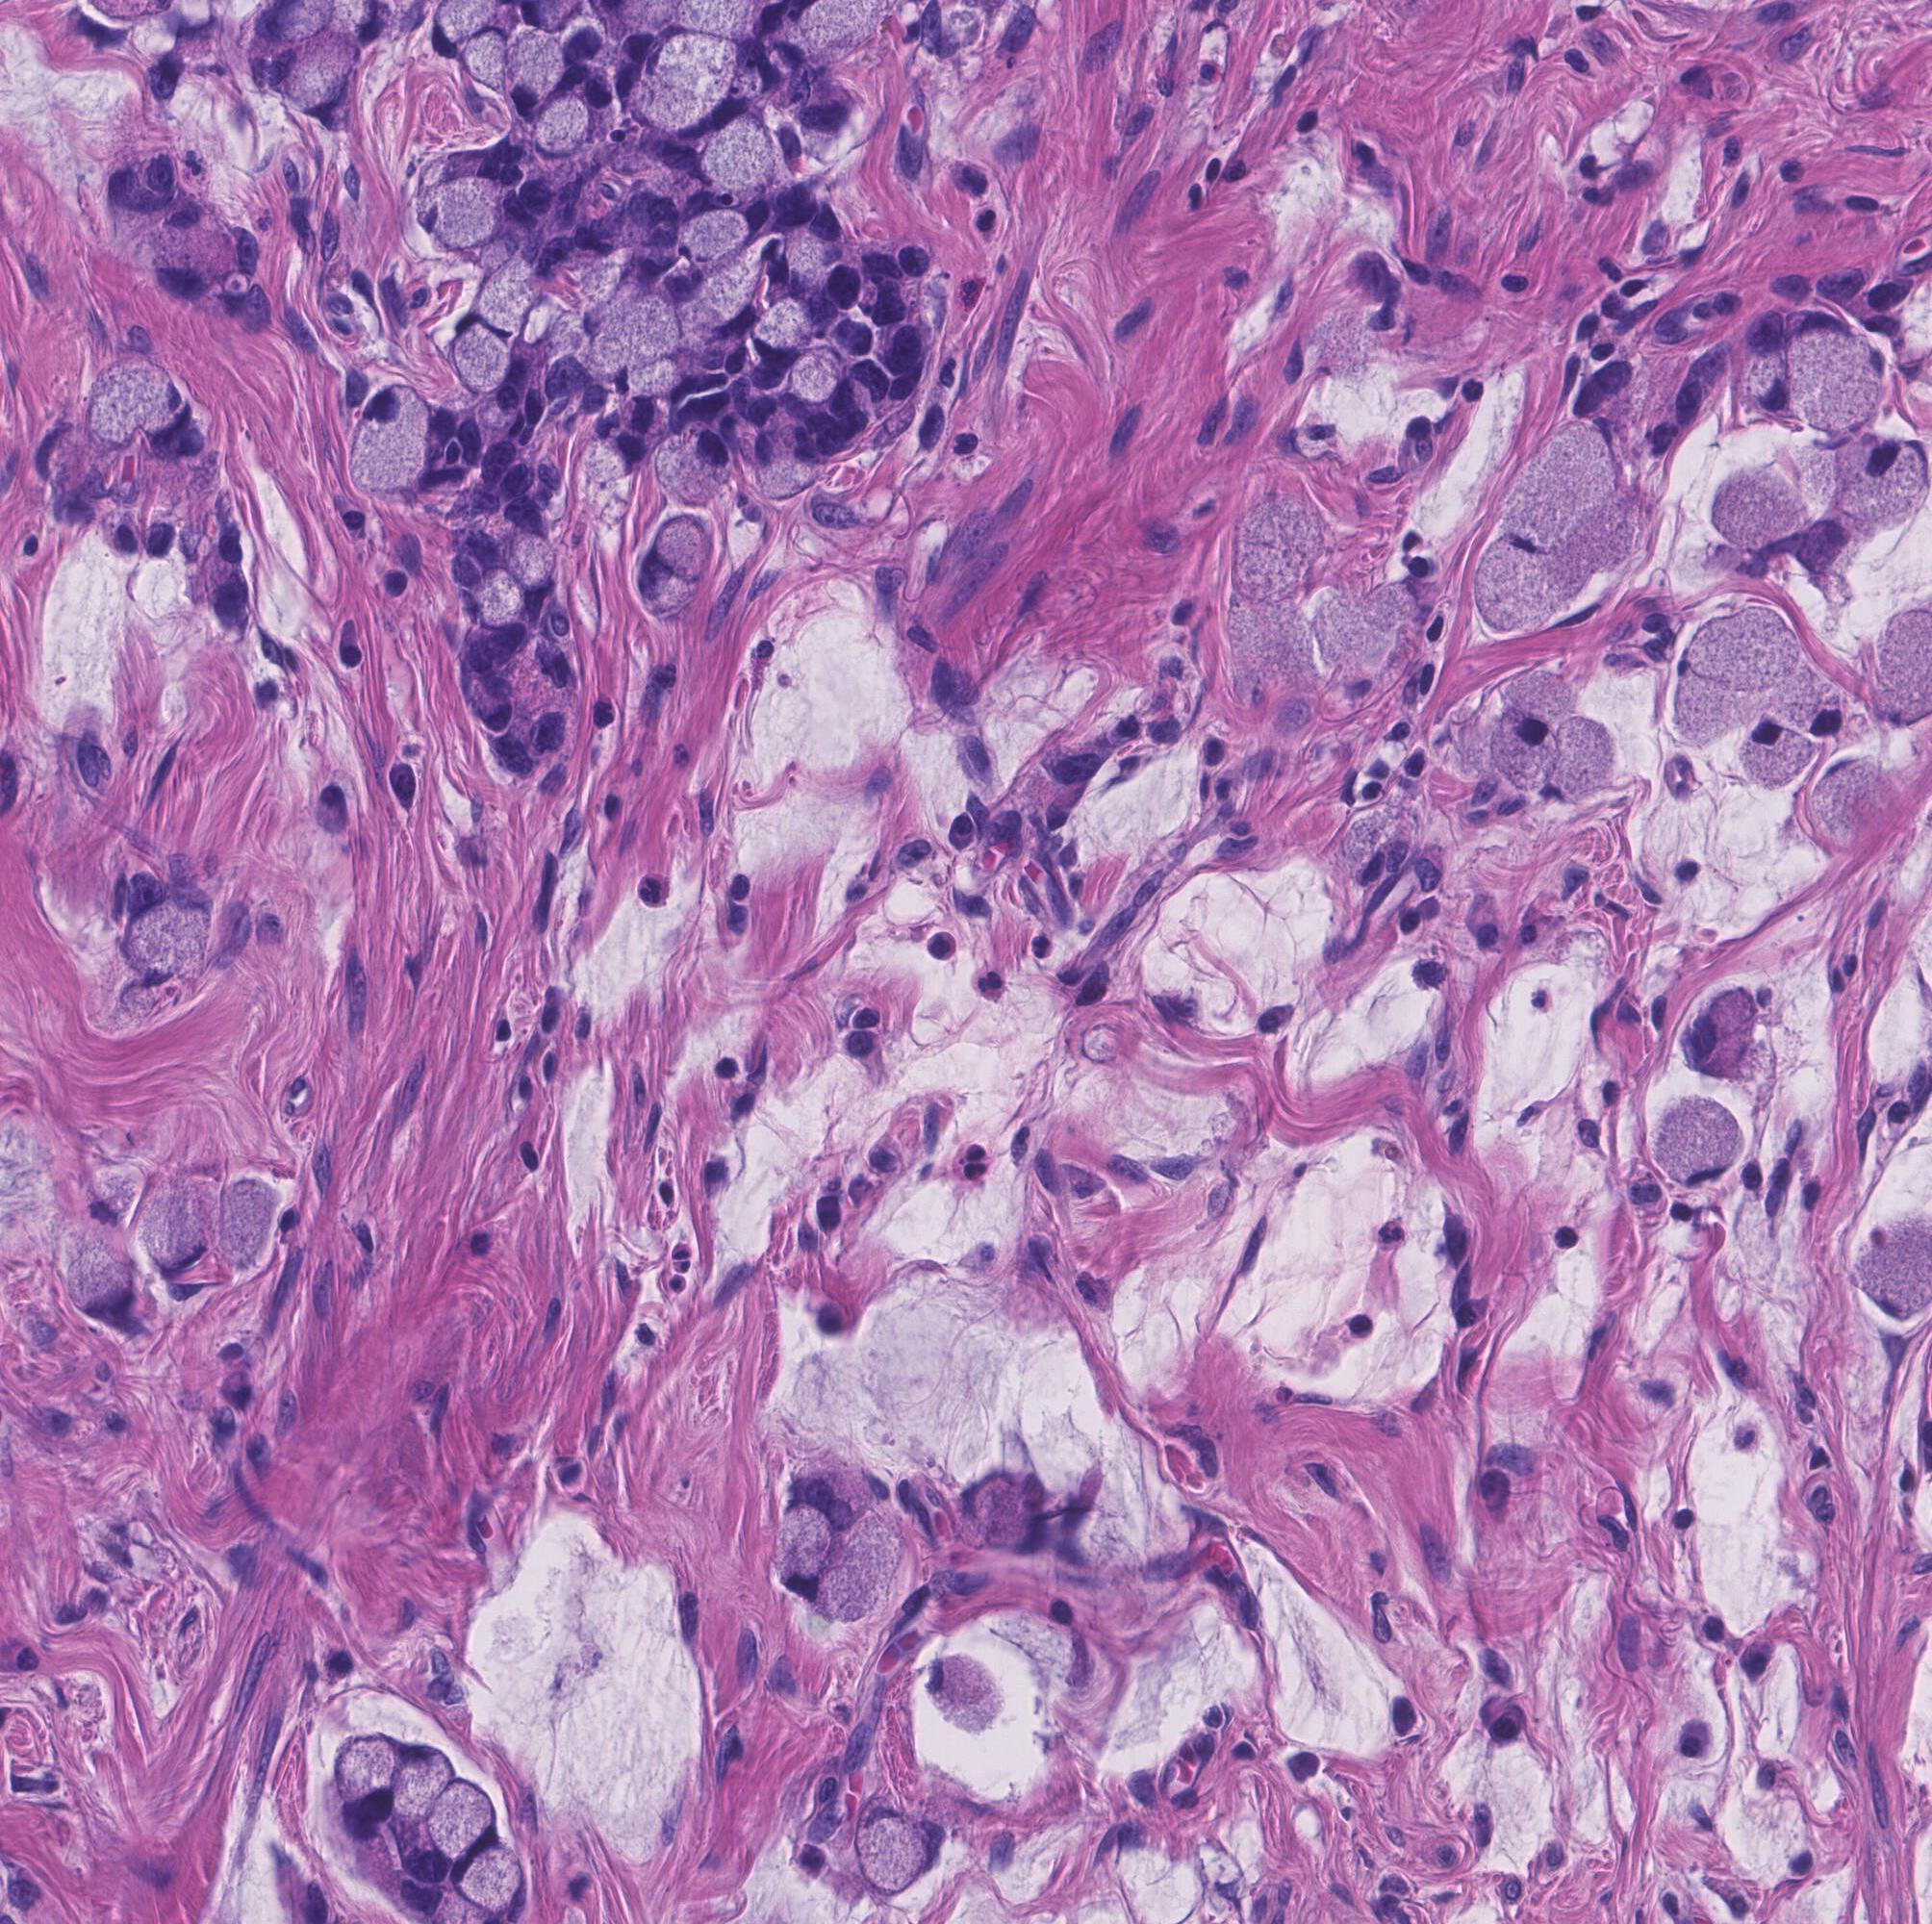ring_cell_cancer: (97, 351, 210, 470), (638, 30, 735, 139), (844, 1801, 952, 1892), (346, 382, 430, 495), (636, 516, 710, 624), (143, 1175, 220, 1274), (271, 37, 360, 123), (1475, 530, 1548, 633), (1856, 1209, 1920, 1325), (1655, 1099, 1736, 1189), (1814, 751, 1886, 849), (1840, 435, 1918, 522), (922, 1654, 999, 1739), (1687, 981, 1757, 1073), (1772, 661, 1854, 736), (418, 181, 499, 255), (772, 1498, 830, 1596), (1484, 710, 1562, 782), (501, 28, 564, 113), (654, 428, 730, 499), (446, 319, 513, 393), (1740, 710, 1805, 786), (753, 433, 820, 500), (1791, 310, 1842, 388), (751, 300, 811, 365), (673, 220, 753, 268), (467, 28, 520, 83)
